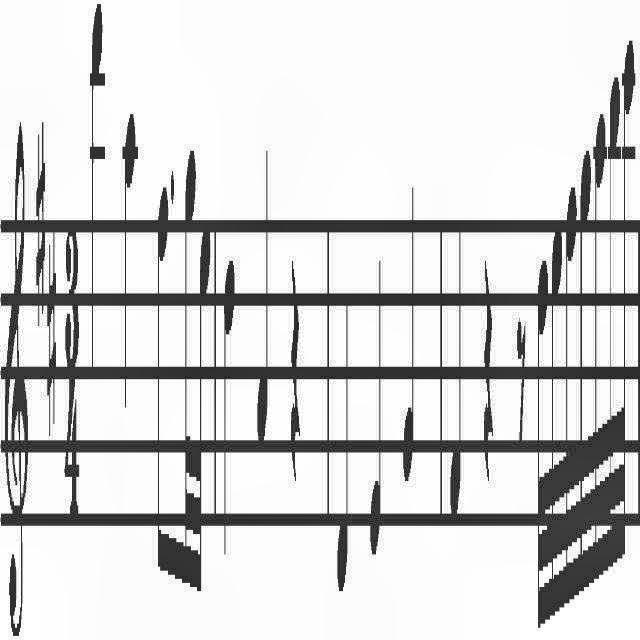Bass-clef: (0, 71, 32, 640)
Diez: (35, 102, 47, 334), (46, 211, 56, 451)
Eighth-note: (154, 156, 170, 592)
Eighth-rest: (515, 290, 529, 490)
Quarter-note: (85, 6, 107, 394), (252, 128, 276, 468), (121, 80, 142, 448), (448, 177, 466, 566), (221, 202, 235, 582), (366, 250, 382, 574), (402, 170, 418, 492), (338, 250, 352, 602)
Quarter-rest: (288, 213, 302, 554), (481, 230, 497, 514)
